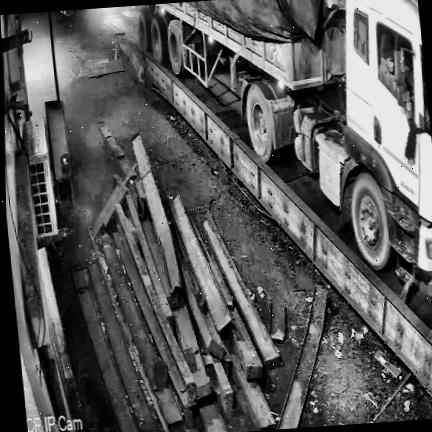tyre: (351, 172, 393, 271), (246, 84, 274, 161), (167, 20, 184, 74), (151, 16, 168, 63), (137, 10, 151, 51)
